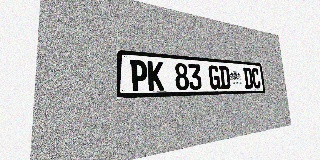3: (188, 64, 202, 90)
8: (174, 63, 189, 90)
C: (251, 68, 261, 89)
D: (219, 66, 231, 89), (243, 67, 253, 89)
G: (208, 65, 221, 90)
K: (147, 61, 164, 91)
P: (130, 60, 148, 91)
